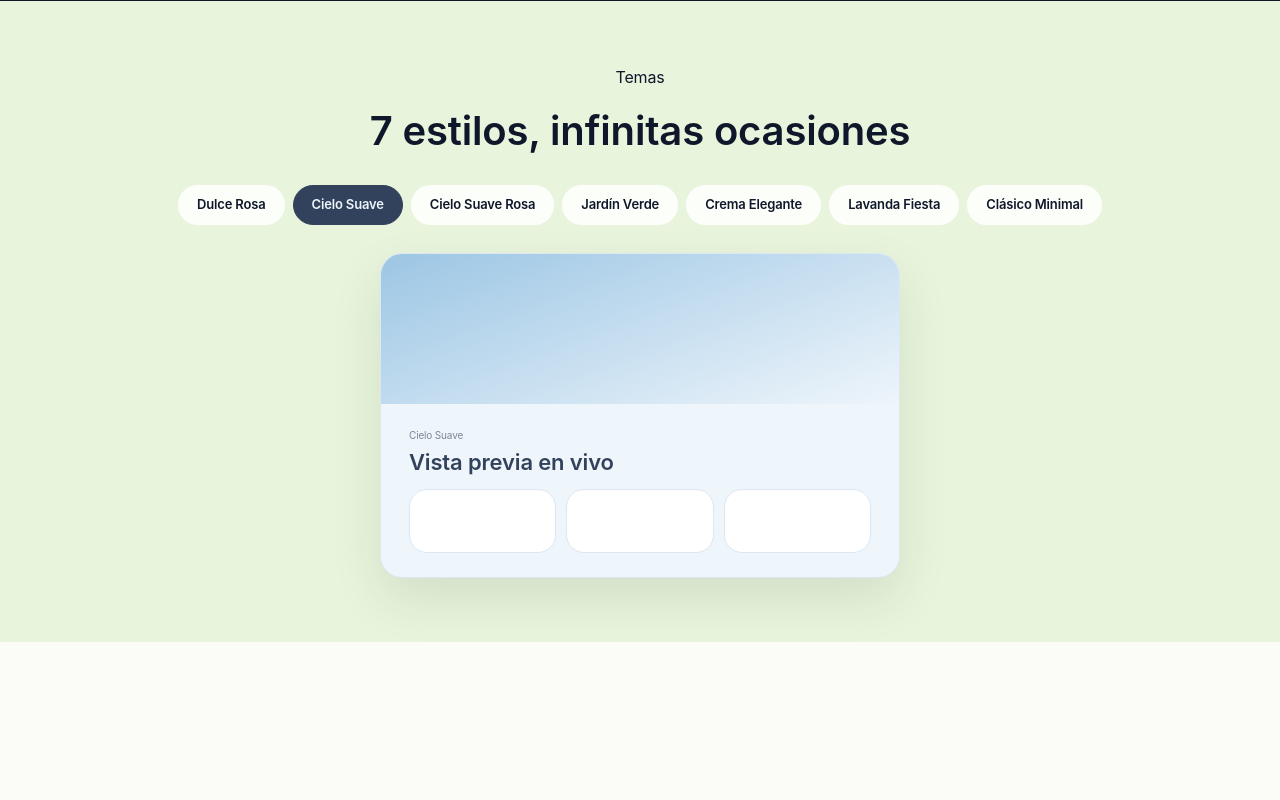
Test: ThemePreviews › updates the live preview when a theme is selected
Click the button "Lavanda Fiesta". click: x=894, y=205
box: [829,185,959,224]
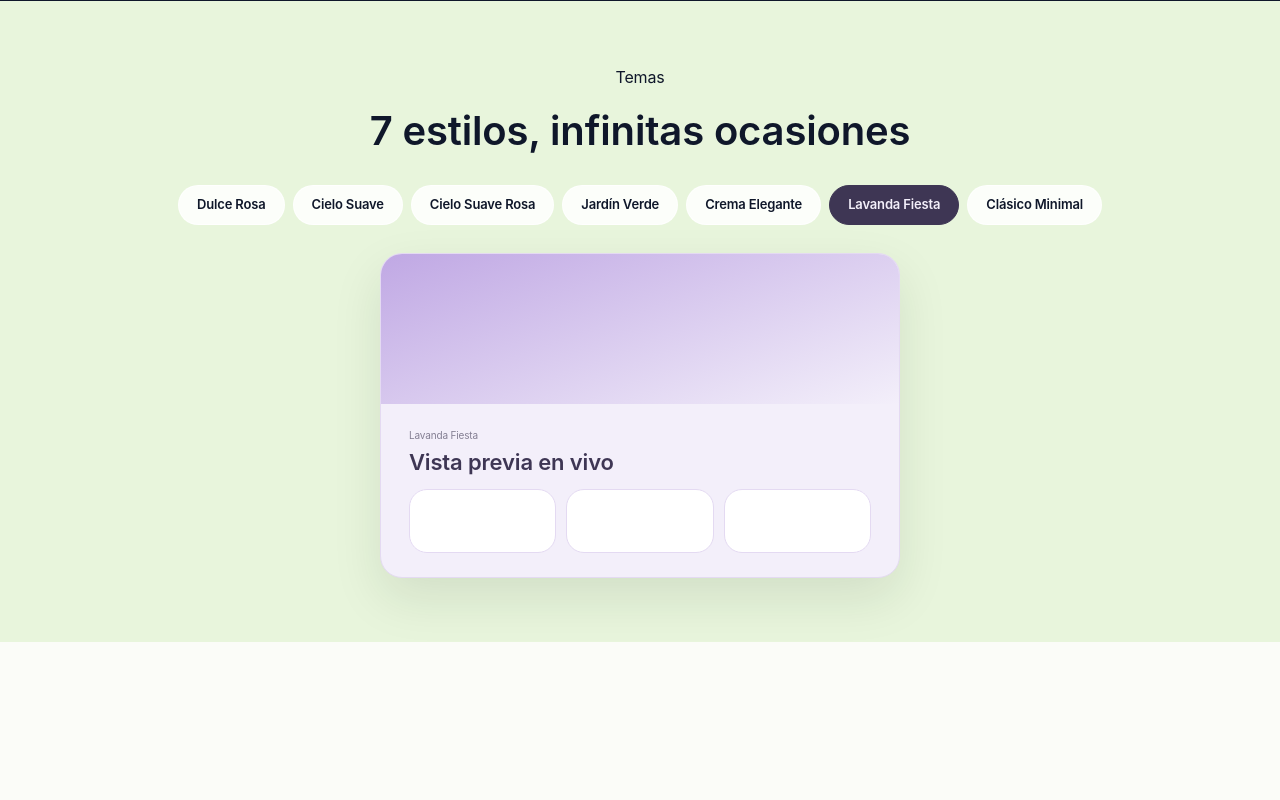
Result: the text with test id "theme-preview-name" reads "Lavanda Fiesta" at [409,428,478,440]
